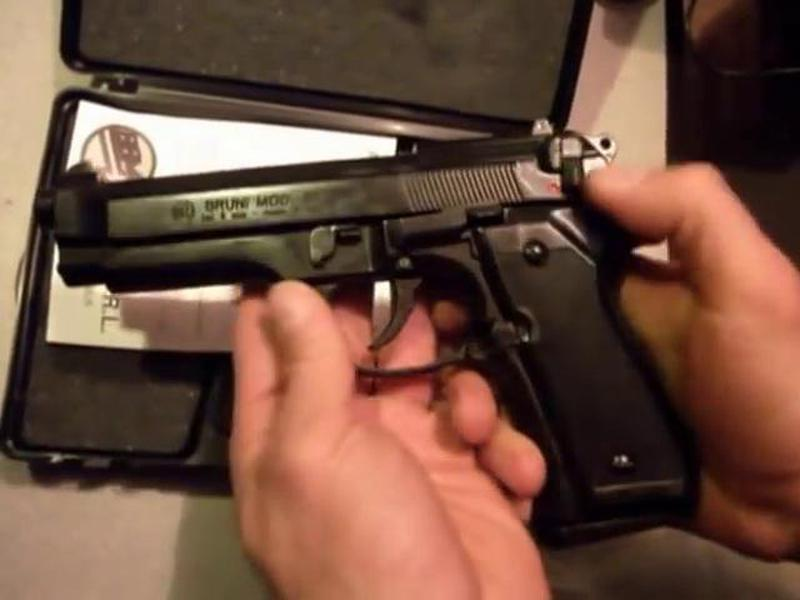Pistola: (43, 70, 702, 535)
